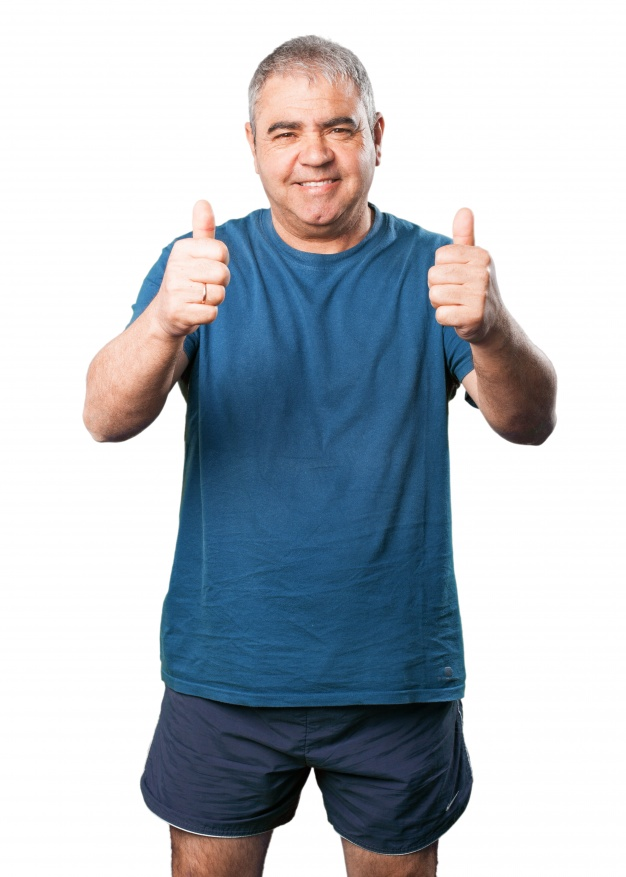thumbsup: (163, 196, 231, 327), (426, 206, 493, 326)
